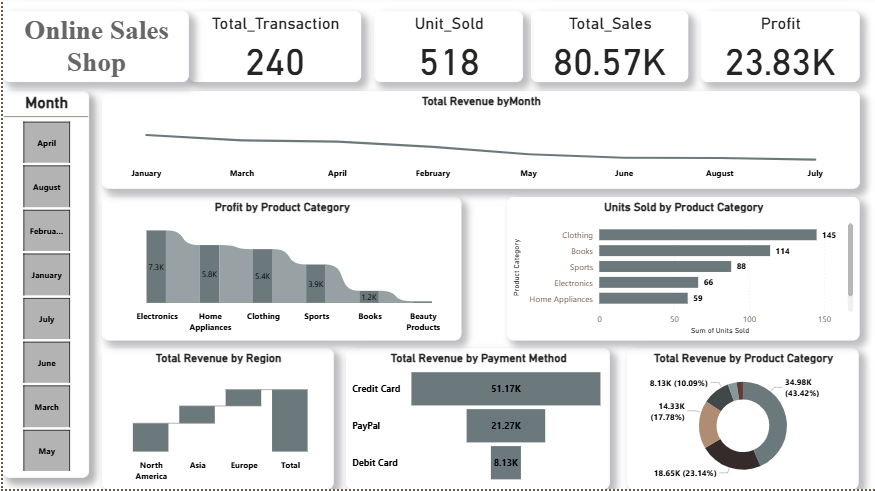

The dashboard page shown, as its layout file describes it:
{"tool":"powerbi","page":{"name":"Main","canvas":[1280,720],"ordinal":0},"visuals":[{"type":"card","title":"Unit_Sold","fields":{"Values":["Sum(Online Sales Data.Units Sold)"]},"box":[542.6,20.2,218.4,104.1],"z":0},{"type":"donutChart","title":"Total Revenue by Product Category","fields":{"Category":["Online Sales Data.Product Category"],"Y":["Sum(Online Sales Data.Total Revenue)"]},"box":[913.8,514,339.3,206.6],"z":1000},{"type":"card","title":"Total_Sales","fields":{"Values":["Sum(Online Sales Data.Total Revenue)"]},"box":[772.7,20.2,230.1,104.1],"z":2000},{"type":"slicer","title":"Month","fields":{"Values":["Online Sales Data.month"]},"box":[0,137.7,126,566.1],"z":3000},{"type":"card","title":"Total_Transaction","fields":{"Values":["CountNonNull(Online Sales Data.Transaction ID)"]},"box":[272.1,20.2,252,104.1],"z":4000},{"type":"waterfallChart","title":"Total Revenue by Region","fields":{"Category":["Online Sales Data.Region"],"Y":["Sum(Online Sales Data.Total Revenue)"]},"box":[144.5,514,339.3,206.6],"z":5000},{"type":"funnel","title":"Total Revenue by Payment Method","fields":{"Category":["Online Sales Data.Payment Method"],"Y":["Sum(Online Sales Data.Total Revenue)"]},"box":[502.3,514,386.4,206.6],"z":6000},{"type":"ribbonChart","title":"Profit by Product Category","fields":{"Category":["Online Sales Data.Product Category"],"Y":["Sum(Online Sales Data.Profit)"]},"box":[144.5,292.3,525.8,210],"z":7000},{"type":"card","title":"Profit","fields":{"Values":["Sum(Online Sales Data.Profit)"]},"box":[1021.3,20.2,231.8,104.1],"z":8000},{"type":"lineChart","title":"Total Revenue byMonth","fields":{"Category":["Online Sales Data.month"],"Y":["Sum(Online Sales Data.Total Revenue)"]},"box":[144.5,137.7,1108.7,142.8],"z":9000},{"type":"barChart","title":"Units Sold by Product Category","fields":{"Category":["Online Sales Data.Product Category"],"Y":["Sum(Online Sales Data.Units Sold)"]},"box":[737.4,292.3,515.7,210],"z":10000},{"type":"textbox","title":"Online Sales Shop","box":[0,20.5,272.2,103.9],"z":11000}]}

Visuals, with their boxes in screenshot pixels (x1, y1, x2, y2), scaled from the page's 1280x720 canvas onto the 875x491 screenshot:
"Unit_Sold" card: left=371, top=14, right=520, bottom=85
"Total Revenue by Product Category" donutChart: left=625, top=351, right=857, bottom=490
"Total_Sales" card: left=528, top=14, right=686, bottom=85
"Month" slicer: left=0, top=94, right=86, bottom=480
"Total_Transaction" card: left=186, top=14, right=358, bottom=85
"Total Revenue by Region" waterfallChart: left=99, top=351, right=331, bottom=490
"Total Revenue by Payment Method" funnel: left=343, top=351, right=608, bottom=490
"Profit by Product Category" ribbonChart: left=99, top=199, right=458, bottom=343
"Profit" card: left=698, top=14, right=857, bottom=85
"Total Revenue byMonth" lineChart: left=99, top=94, right=857, bottom=191
"Units Sold by Product Category" barChart: left=504, top=199, right=857, bottom=343
"Online Sales Shop" textbox: left=0, top=14, right=186, bottom=85
